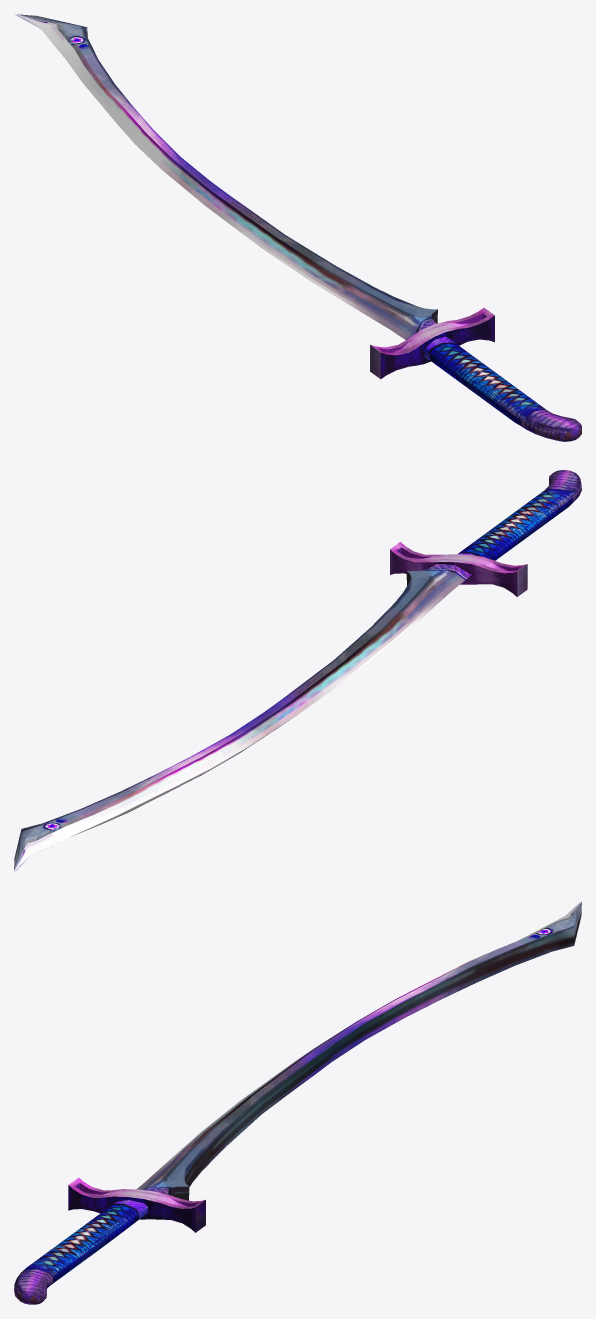
Rendered from sword_ruritou_ruritou.glb.
The picture shows the model from 3 angles, top to bottom: view 1: azimuth 30°, elevation 25°; view 2: azimuth 150°, elevation 25°; view 3: azimuth 330°, elevation 25°; orthographic projection. The views are drawn at different scales.
Bounding box in the file's own units: 0.1881 × 0.0391 × 1.51.
1 material, 1 textured.
